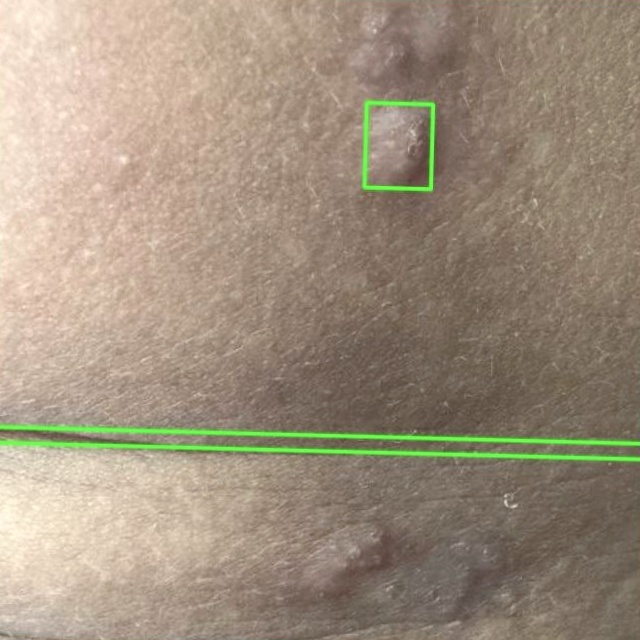Scabies: (0, 0, 639, 459), (0, 427, 639, 639), (364, 102, 433, 189)
